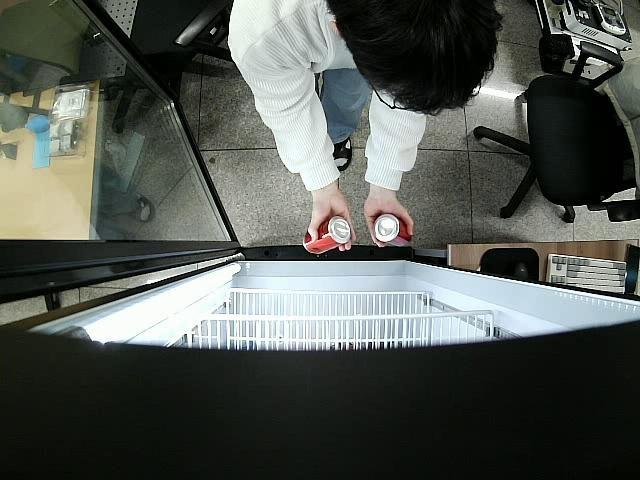11_cocaColaZero: (302, 215, 352, 258), (372, 210, 410, 246)
